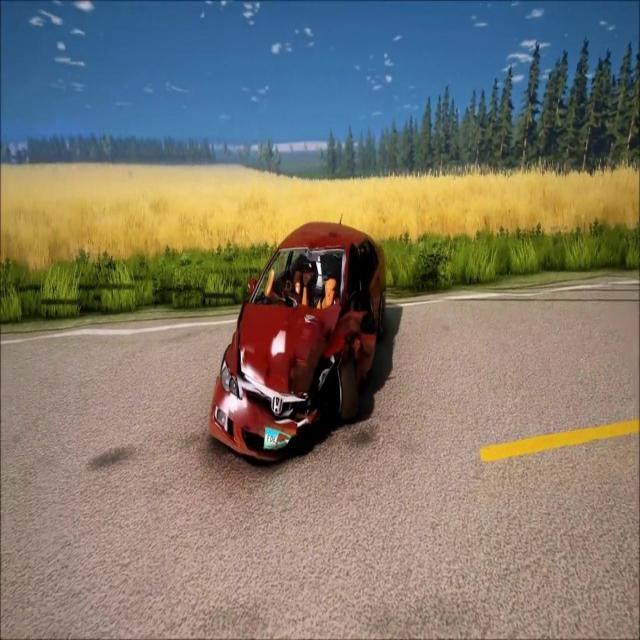single accident: (201, 177, 421, 503)
